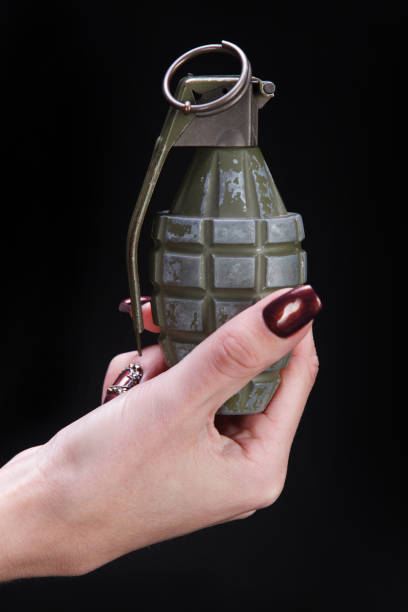e1: (123, 40, 318, 416)
